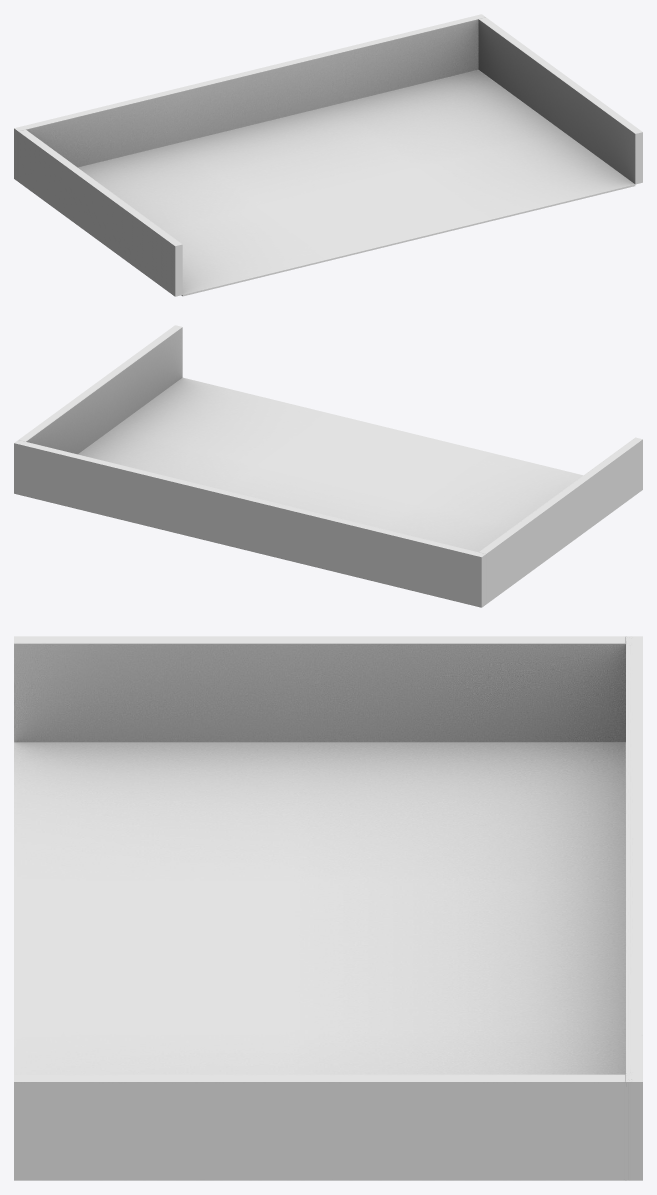
3 views of the same model, one above another, from view 1: azimuth 30°, elevation 25°; view 2: azimuth 150°, elevation 25°; view 3: azimuth 270°, elevation 25° (orthographic). The views are drawn at different scales.
Visible parts, largest first — view 1: HORNEADO_suelo, HORNEADO_pared_fondo, HORNEADO_pared_der, HORNEADO_pared_izq; view 2: HORNEADO_suelo, HORNEADO_pared_fondo, HORNEADO_pared_izq, HORNEADO_pared_der; view 3: HORNEADO_suelo, HORNEADO_pared_der, HORNEADO_pared_izq, HORNEADO_pared_fondo.
Boxes of the visible parts, x1,y1,x2,y2 form: HORNEADO_suelo: (78,70,635,296); HORNEADO_pared_fondo: (14,14,485,181); HORNEADO_pared_der: (478,17,642,184); HORNEADO_pared_izq: (18,129,182,296); HORNEADO_suelo: (78,377,583,551); HORNEADO_pared_fondo: (14,440,486,607); HORNEADO_pared_izq: (479,437,642,603); HORNEADO_pared_der: (19,325,182,454); HORNEADO_suelo: (14,742,625,1074); HORNEADO_pared_der: (14,1074,625,1180); HORNEADO_pared_izq: (14,636,625,742); HORNEADO_pared_fondo: (626,636,642,1180).
Bounding box in the file's own units: 31 × 3.3 × 18.5.
4 materials, 4 textured.
